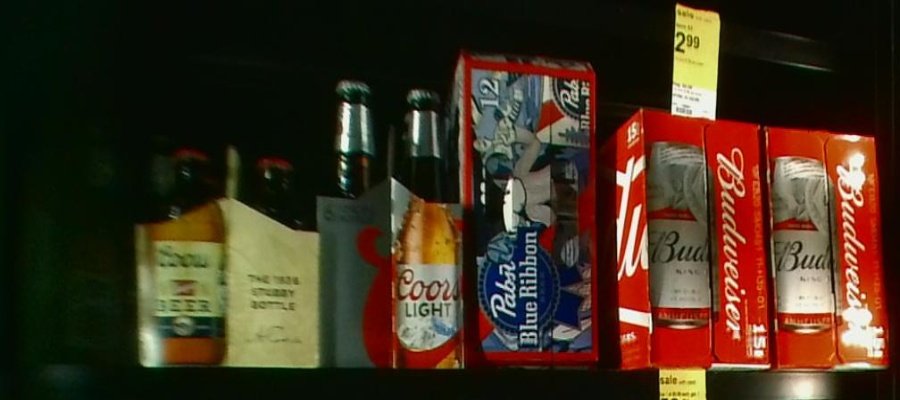bottle: (599, 106, 767, 370), (457, 51, 596, 366), (130, 134, 319, 363), (323, 77, 460, 372), (762, 125, 888, 370), (25, 104, 125, 356)
